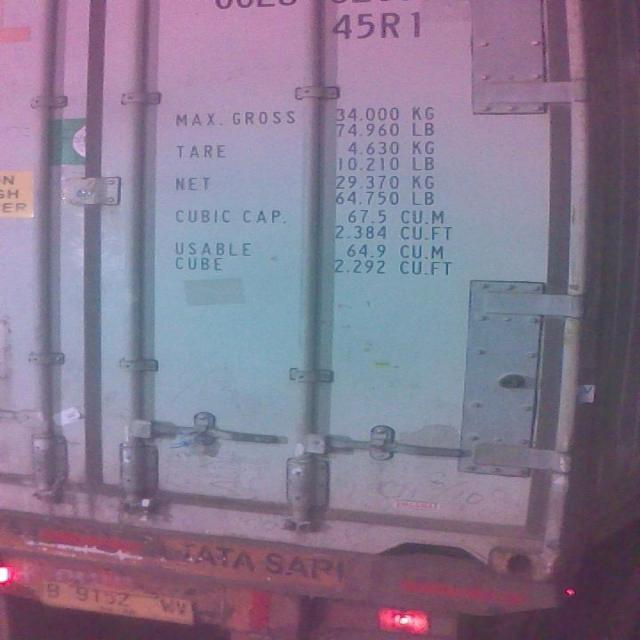seal: (168, 423, 220, 452), (140, 494, 160, 523)
